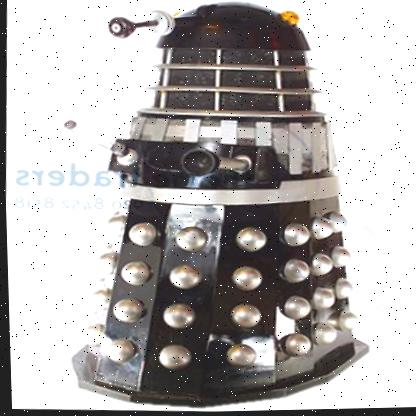dalek: (52, 0, 371, 415)
